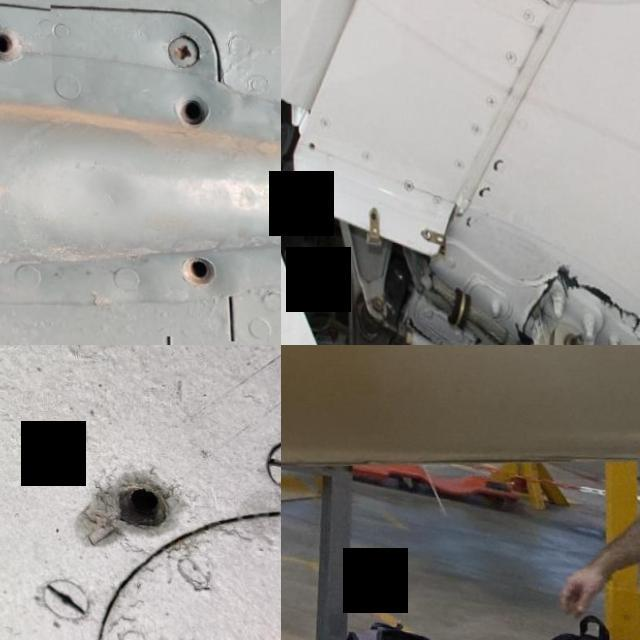Crack: (518, 259, 640, 342)
Missing_Fastener: (81, 437, 202, 562), (152, 222, 242, 310), (152, 68, 237, 150), (0, 0, 51, 88)
